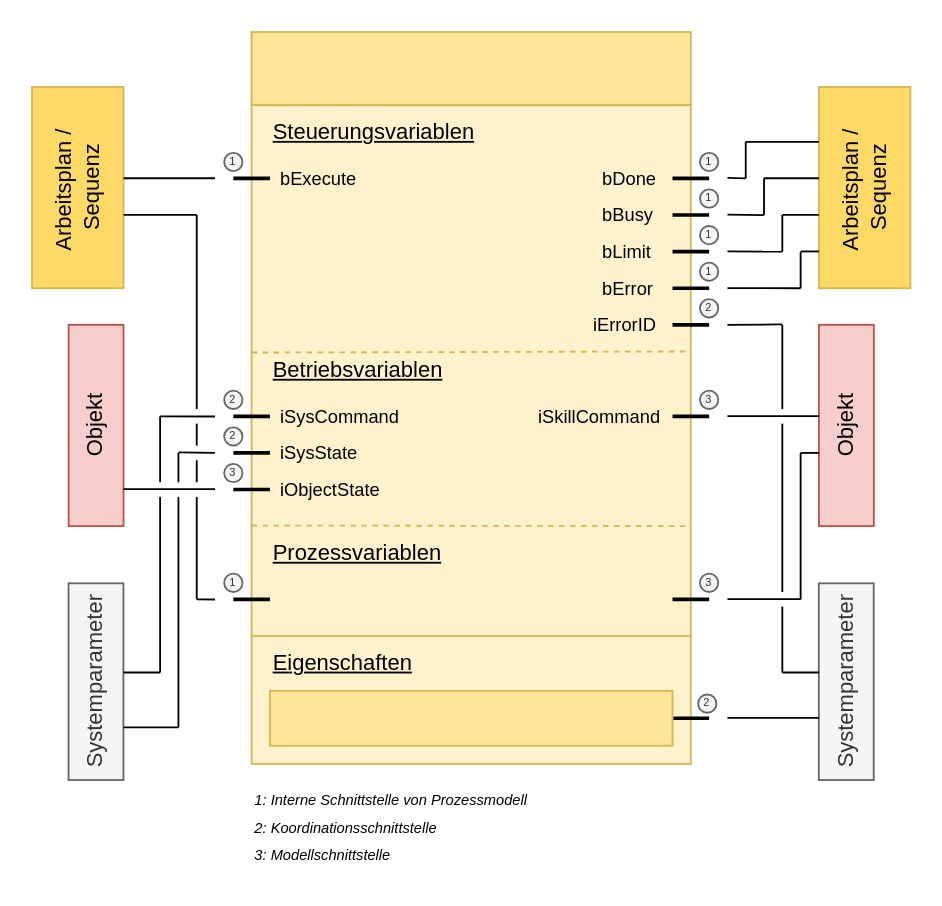
This 942x906 diagram has some shape labels left out. Here are the shapes that lost their labels. From the top down, the box of each, then its label:
(250, 30, 691, 105): Skill
(268, 689, 673, 746): P_State (GET)
